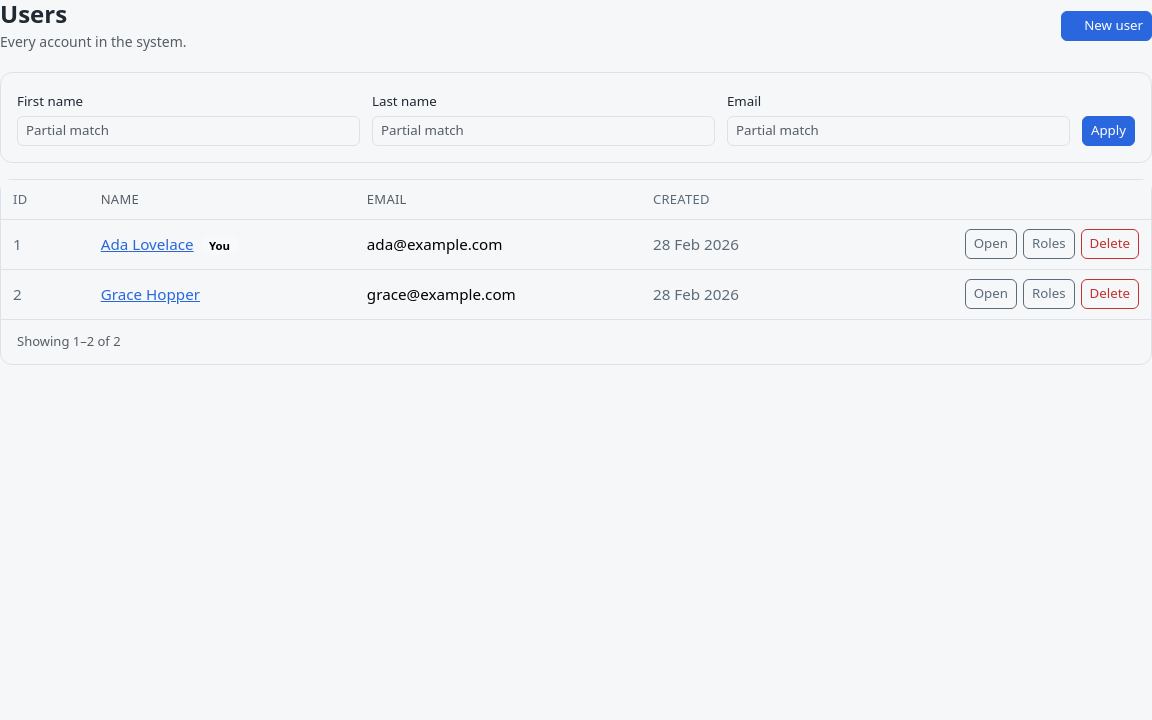
When the API refuses an account change › deletes the account once it is confirmed
Click the button "Delete" in the row of "Hopper" at (1110, 294), box [1081,280,1139,309]
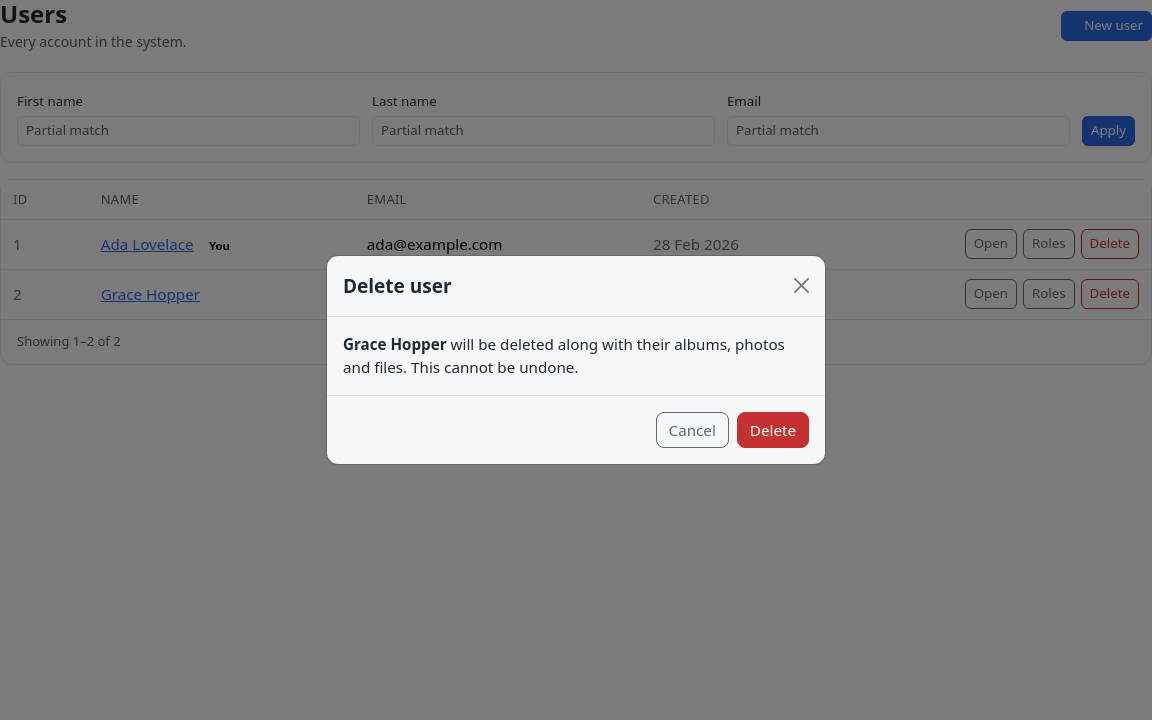
Click the button "Delete" at (773, 430), box [737,412,809,448]
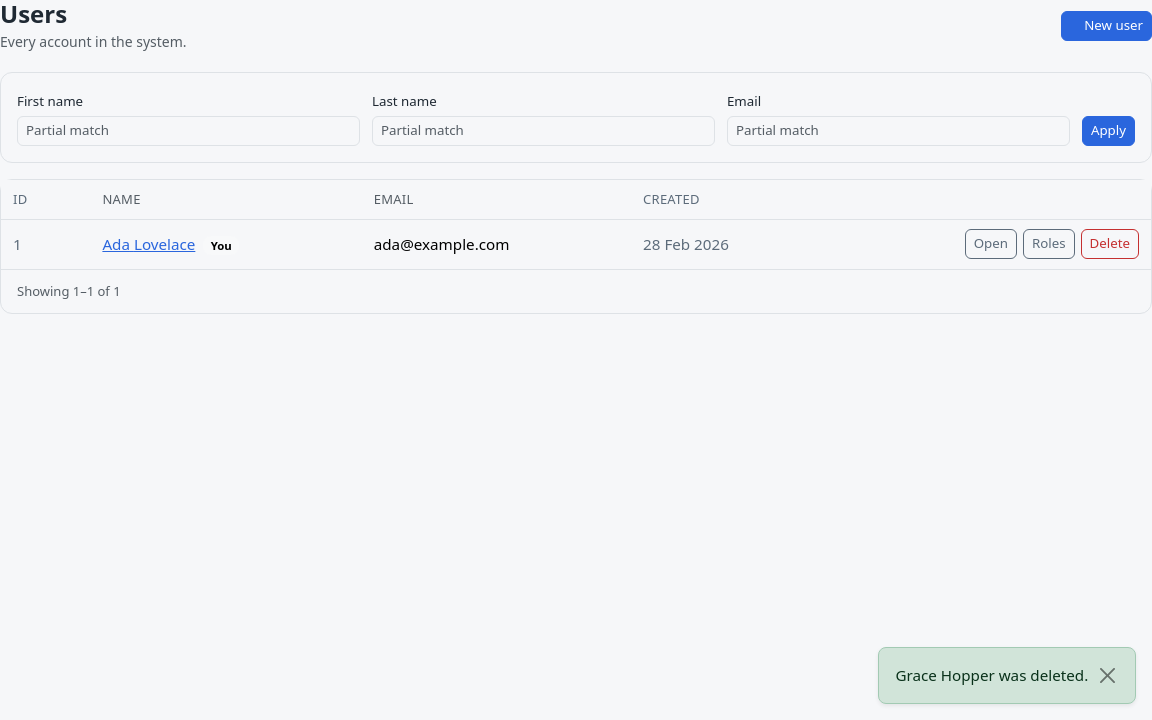
Now the text "Grace Hopper was deleted." is shown, box [895,664,1088,687]
